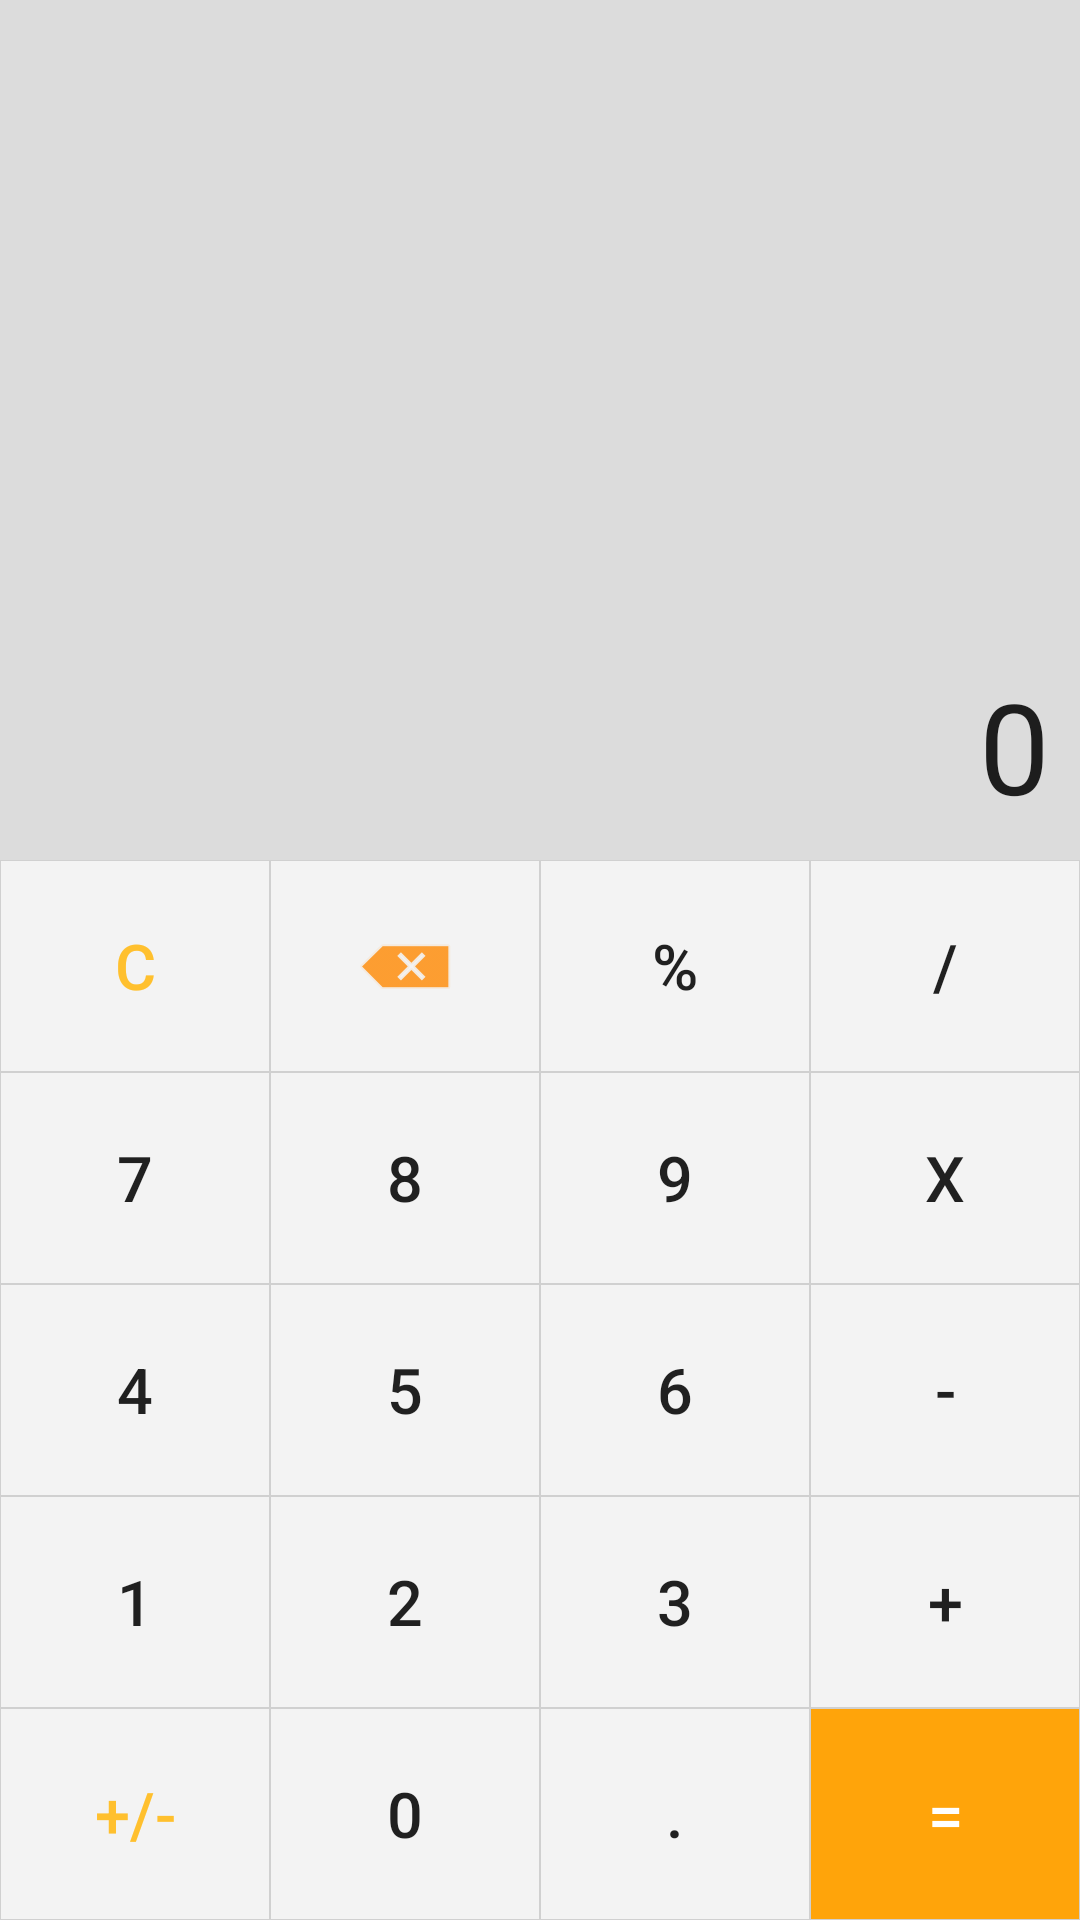

Icons on this 1080 x 1920 Android screen, each with the point to tap as point (x, y):
delete: point (405, 967)
